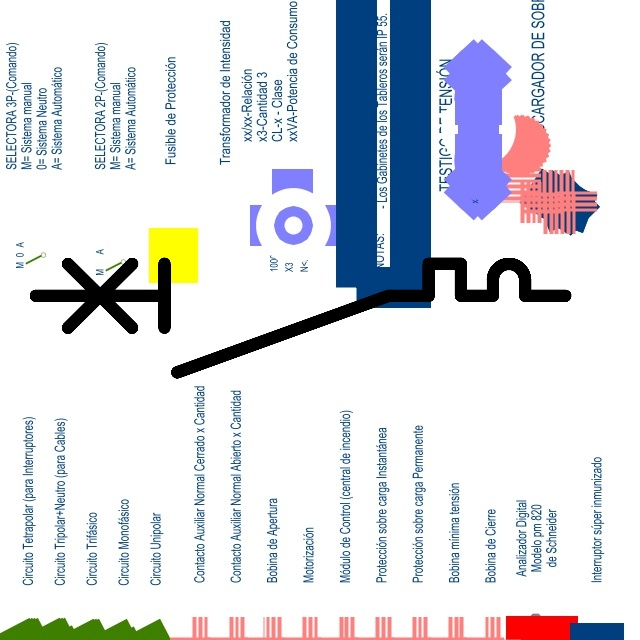interruptor_termomagnetico: (22, 250, 579, 386)
